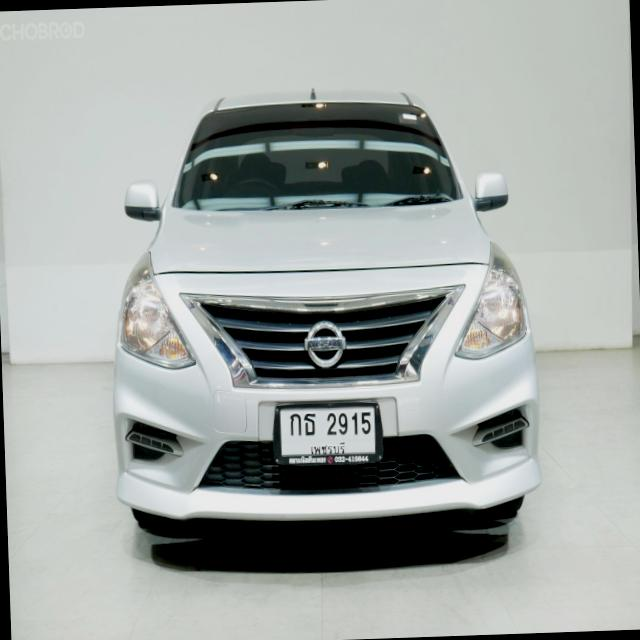license_plate: (272, 397, 387, 470)
